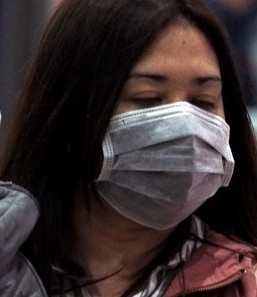with_mask: (42, 1, 247, 227)
